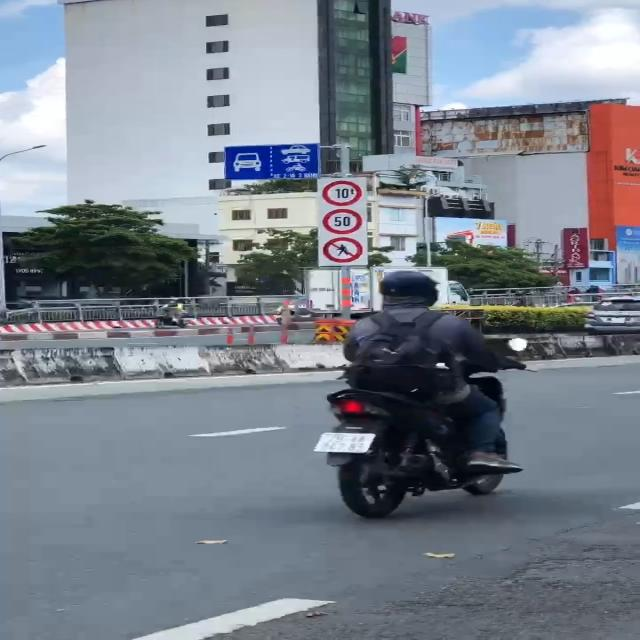Bien bao cam nguoi di bo: (322, 233, 366, 264)
Bien bao toc do toi da cho phep: (320, 208, 367, 235)
